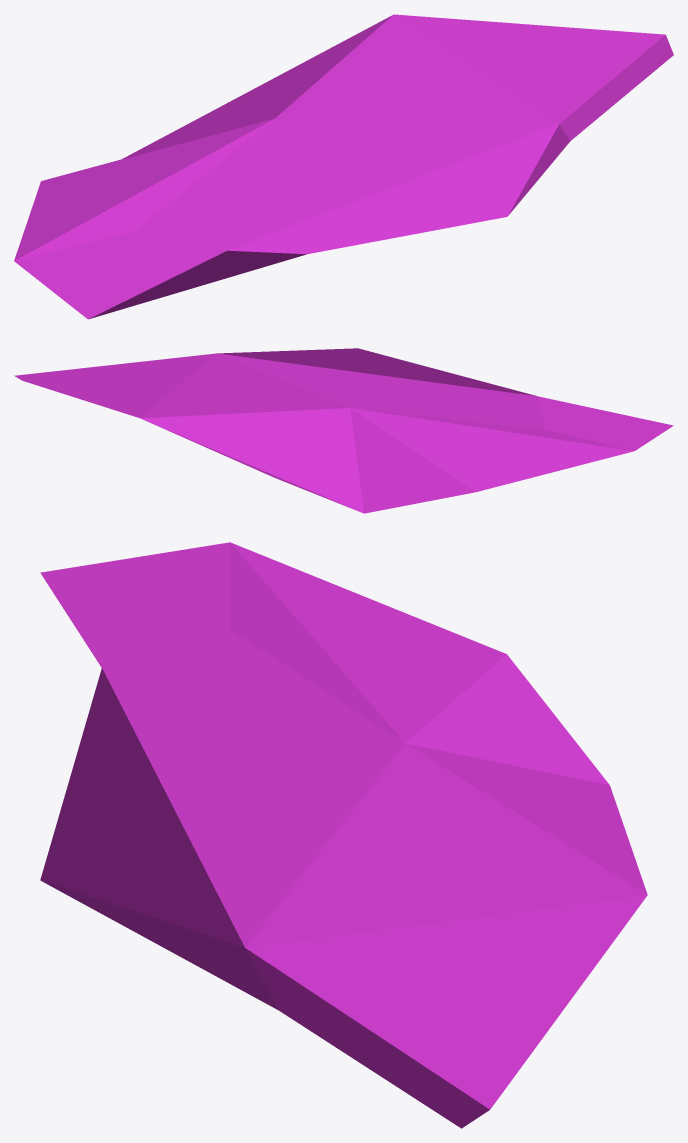
Rendered from chiped tower_Part_002.fbx.
The picture shows the model from 3 angles, top to bottom: view 1: azimuth 30°, elevation 25°; view 2: azimuth 150°, elevation 25°; view 3: azimuth 270°, elevation 25°; orthographic projection. The views are drawn at different scales.
Parts seen in each view (by area): view 1: chiped_tower_Part_002; view 2: chiped_tower_Part_002; view 3: chiped_tower_Part_002.
Boxes of the visible parts, bbox=[...] form: chiped_tower_Part_002: bbox=[14, 14, 673, 319]; chiped_tower_Part_002: bbox=[14, 348, 673, 513]; chiped_tower_Part_002: bbox=[40, 542, 647, 1128].
Bounding box in the file's own units: 15.87 × 1.69 × 7.51.
